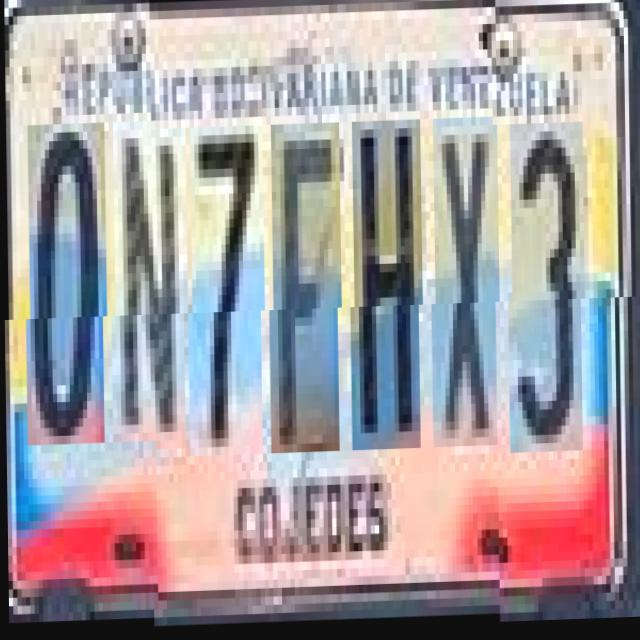3: (510, 118, 586, 448)
7: (190, 127, 266, 458)
F: (270, 125, 342, 455)
H: (352, 123, 424, 453)
N: (112, 129, 188, 451)
O: (27, 132, 108, 454)
X: (432, 120, 500, 450)
